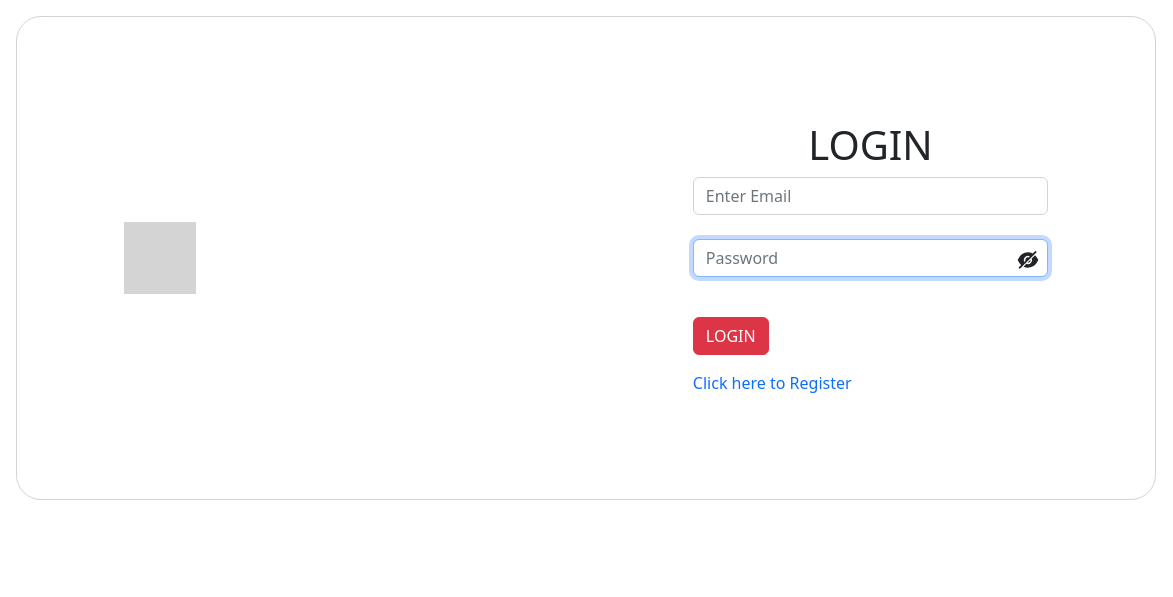
Test: LoginScreen › renders with invalid inputs › validate the email is in when wrong format
The width and height of the screenshot is (1173, 597).
In the field with placeholder "Enter Email": (870, 196) [693, 177, 1048, 215], type "test"
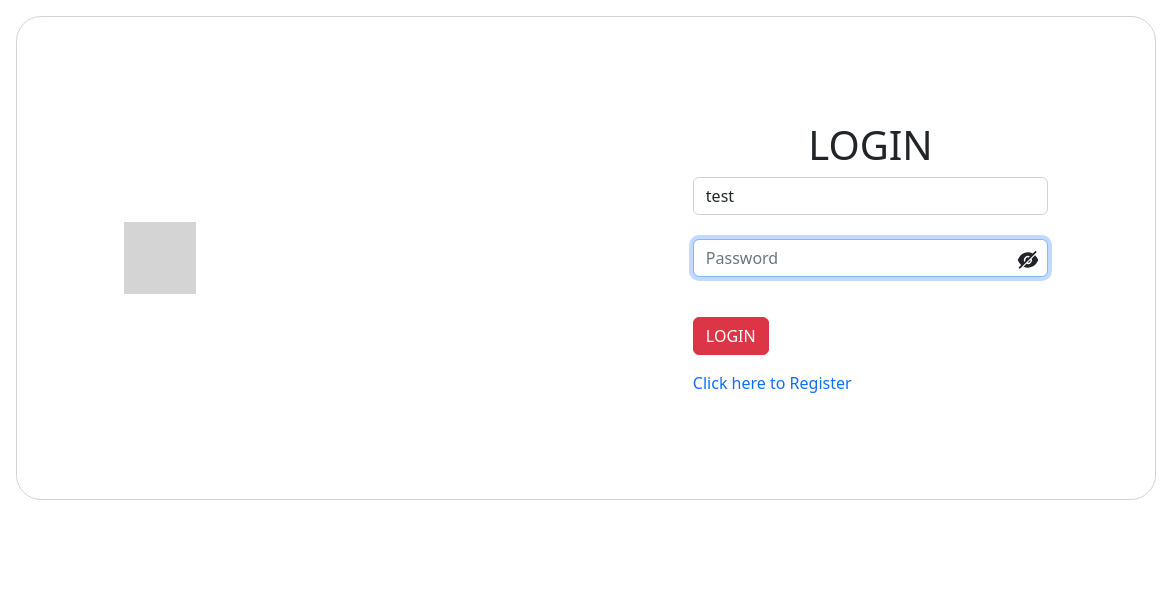
Submit the form from the button, box [693, 317, 769, 355]
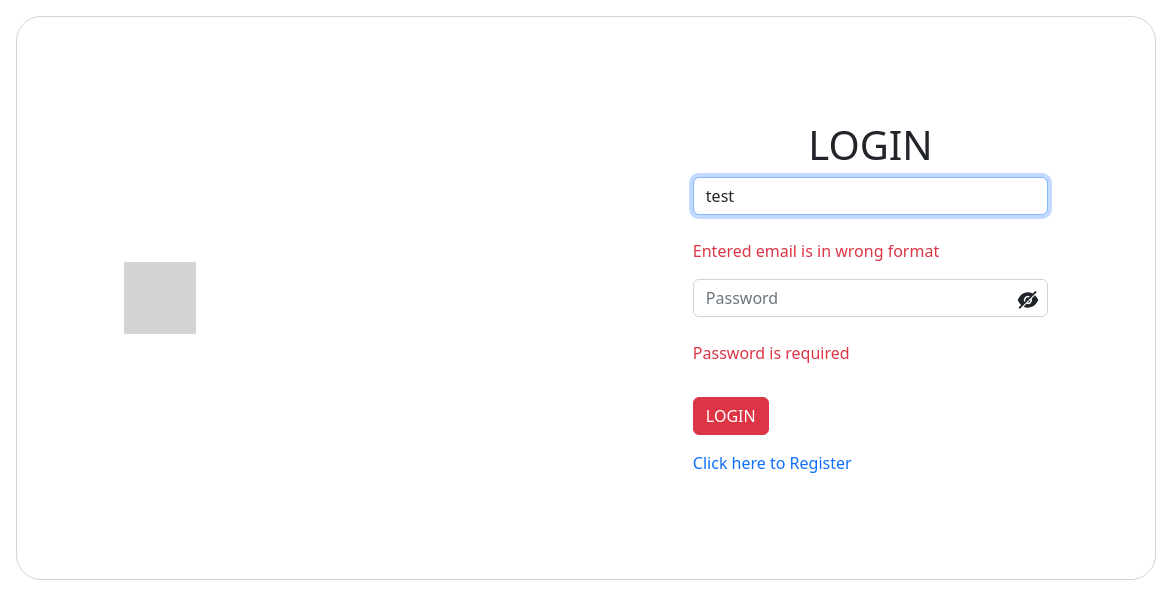
Result: the text "Entered email is in wrong format" is shown at [693, 240, 939, 262]
